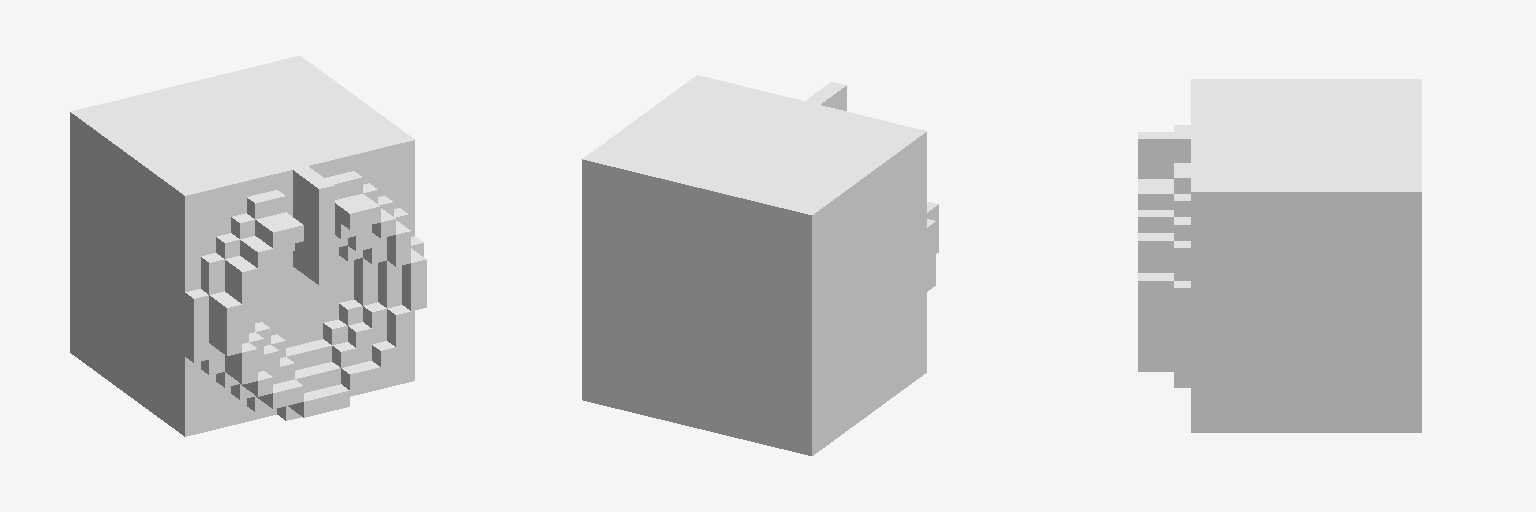
File: exit_cube.obj
3 views of the same model, side by side, from view 1: azimuth 30°, elevation 25°; view 2: azimuth 150°, elevation 25°; view 3: azimuth 270°, elevation 25° (orthographic).
Visible parts, largest first — view 1: object 1; view 2: object 1; view 3: object 1.
Part boxes in pixels (bbox=[...]): object 1: bbox=[70, 56, 426, 436]; object 1: bbox=[582, 75, 938, 455]; object 1: bbox=[1138, 79, 1421, 432].
Bounding box in the file's own units: 1.5 × 1.5 × 1.6.